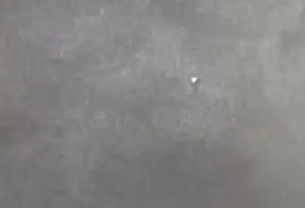Target: (191, 78, 196, 82)
